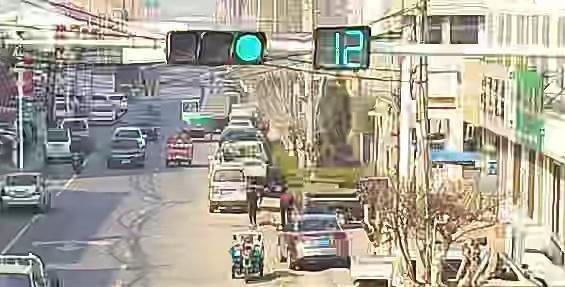green: (235, 32, 264, 65)
greentime: (327, 29, 367, 66)
